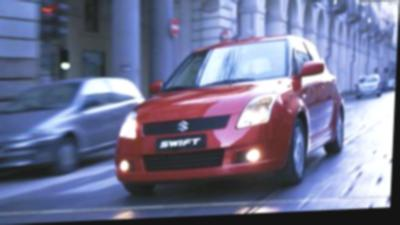License_Plate: (155, 136, 205, 151)
